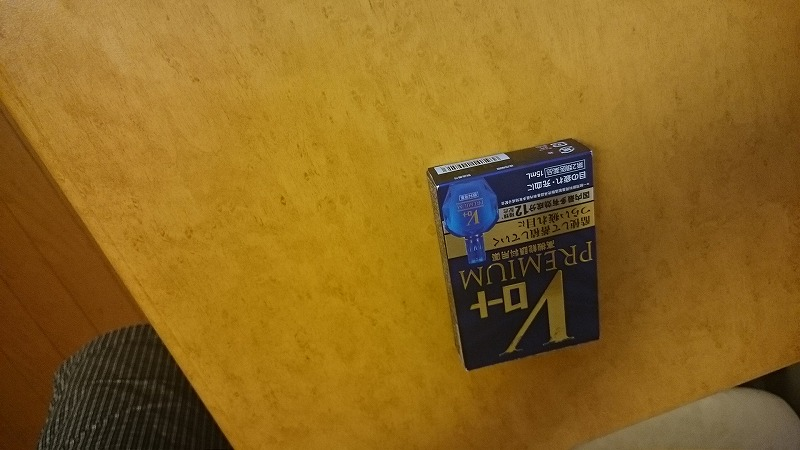D: (413, 129, 615, 373)
